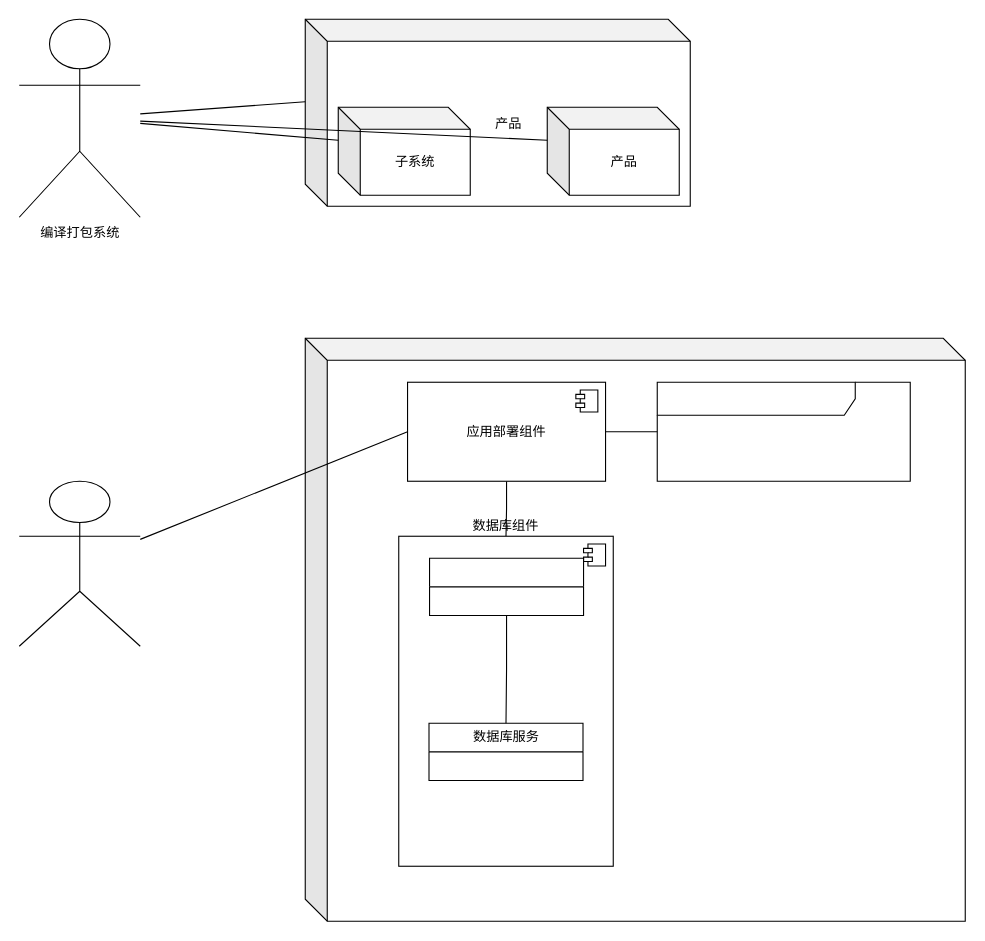
The diagram is 985 pixels wide and 941 high, and some of its shapes have lost their labels. The centre of each missing label's shape, as x and y in pixels:
"产品清单和规划" belongs at (783,431).
"数据库应用管理" belongs at (506,586).
"部署人员" belongs at (79,563).
